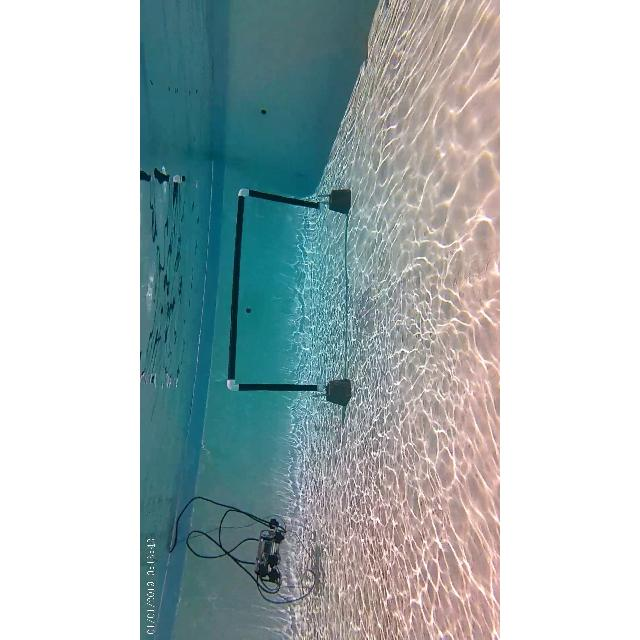prequal gate: (228, 187, 326, 393)
prequal gate leg l: (222, 379, 326, 405)
prequal gate leg r: (230, 184, 330, 212)
